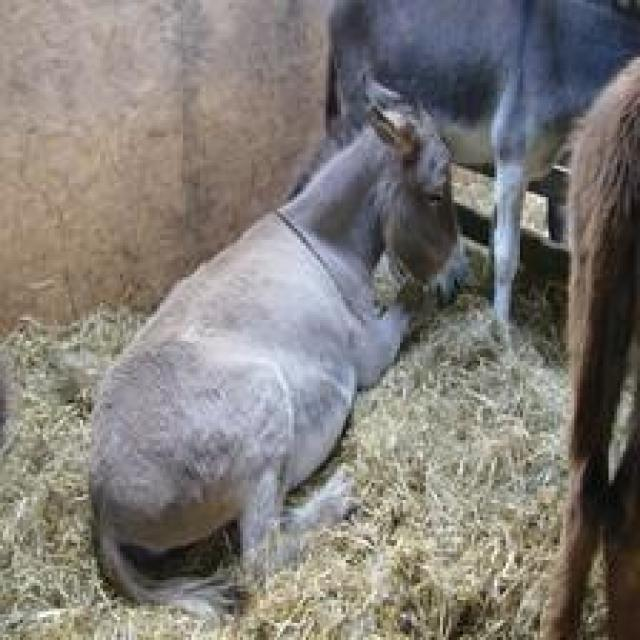Donkey: (86, 71, 466, 623), (320, 0, 637, 346), (534, 20, 637, 637)
